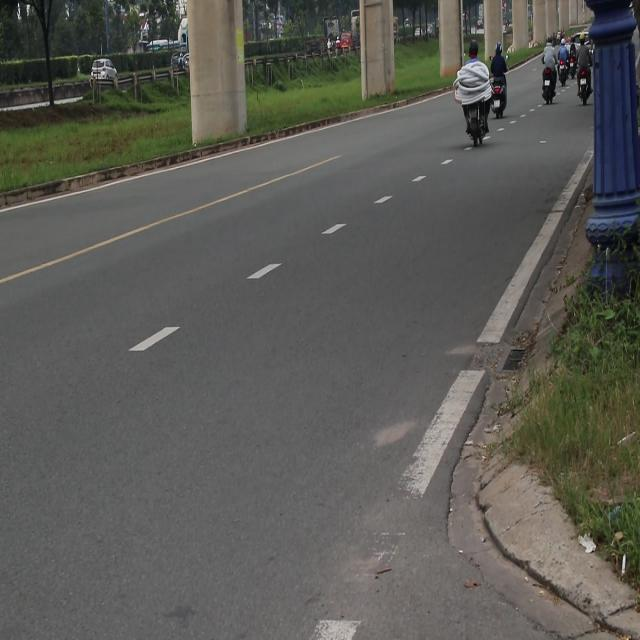car: (91, 59, 118, 82), (336, 34, 353, 53)
motorbike: (466, 103, 490, 159), (488, 75, 511, 122), (541, 72, 557, 105), (566, 43, 580, 80), (576, 75, 591, 109), (556, 57, 568, 91)
